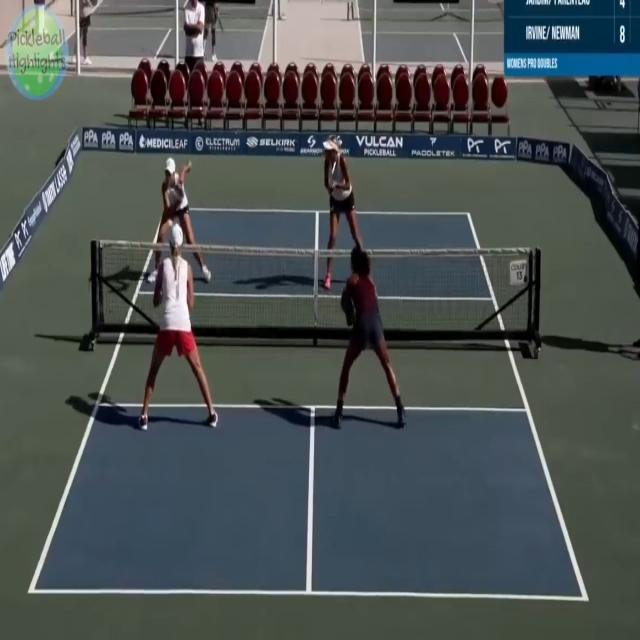Court: (31, 209, 585, 602)
